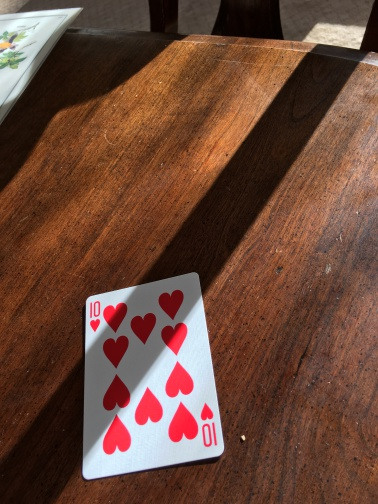ten: (82, 273, 225, 482)
